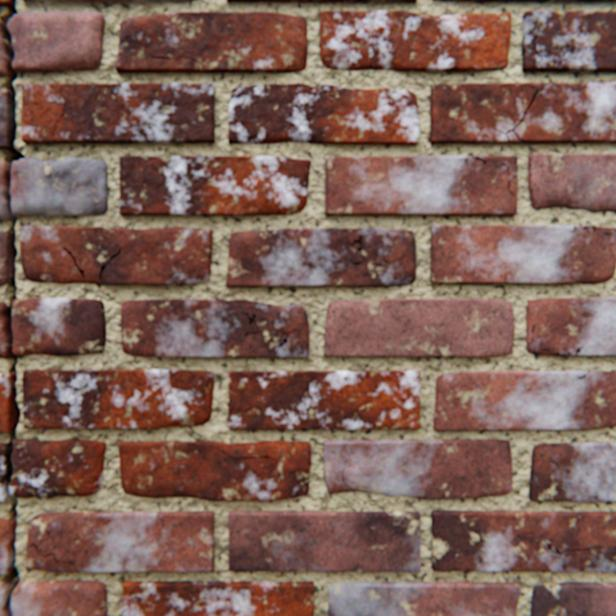brick: (229, 510, 420, 571), (229, 84, 418, 145), (23, 84, 215, 144), (26, 510, 214, 571), (116, 13, 307, 73), (319, 12, 510, 72), (120, 440, 311, 500), (23, 369, 215, 428), (431, 509, 615, 570), (229, 370, 419, 429), (429, 84, 615, 144), (323, 439, 511, 498), (325, 157, 516, 215), (21, 227, 212, 285), (120, 157, 310, 215), (324, 298, 513, 356), (226, 228, 415, 286), (121, 299, 309, 357), (433, 370, 615, 429), (430, 225, 615, 283), (328, 580, 519, 615), (123, 580, 313, 615), (521, 12, 615, 73), (525, 297, 615, 355), (528, 441, 615, 500), (527, 154, 615, 212), (529, 581, 615, 615), (0, 373, 13, 431), (0, 90, 12, 149), (0, 516, 12, 573), (0, 231, 12, 285), (226, 0, 416, 3), (431, 0, 615, 3), (23, 0, 201, 3), (0, 0, 13, 7)
broken_brick: (9, 13, 105, 73), (12, 158, 108, 216), (11, 438, 106, 496), (13, 298, 106, 355), (12, 579, 108, 615), (0, 21, 9, 77), (0, 442, 8, 501), (0, 163, 8, 220), (0, 302, 8, 358), (0, 583, 7, 615)
crack: (0, 0, 26, 615), (493, 84, 541, 142), (544, 541, 602, 558), (100, 246, 122, 281), (218, 447, 275, 459), (65, 247, 85, 276), (151, 57, 205, 67), (529, 30, 541, 70), (347, 236, 364, 264), (486, 160, 507, 172), (279, 330, 292, 347), (506, 174, 516, 196), (366, 260, 389, 269), (32, 539, 44, 553), (245, 326, 259, 335), (57, 108, 65, 123), (575, 371, 588, 379), (578, 226, 598, 231), (55, 557, 73, 562), (561, 49, 572, 57), (343, 478, 351, 488), (474, 157, 485, 164), (249, 314, 256, 324), (574, 346, 581, 355), (556, 59, 560, 70), (42, 552, 55, 555), (47, 529, 50, 538)
